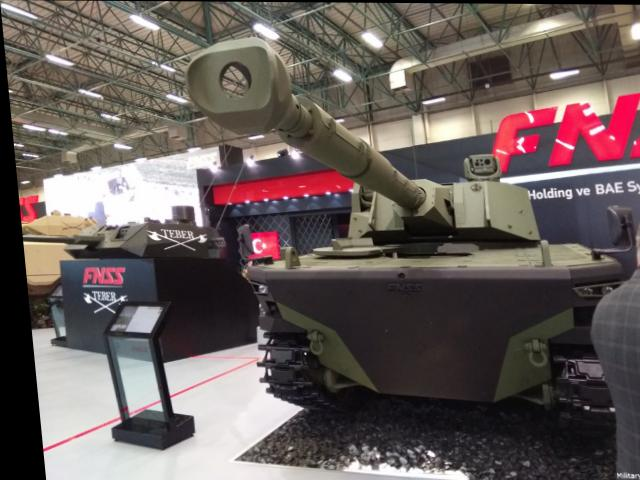tank: (212, 142, 638, 425), (14, 182, 208, 289)
